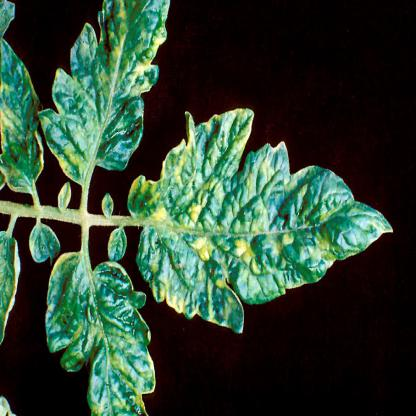tomato leaf mosaic virus: (128, 119, 396, 342), (37, 3, 163, 194), (37, 250, 160, 415), (1, 37, 48, 204)
